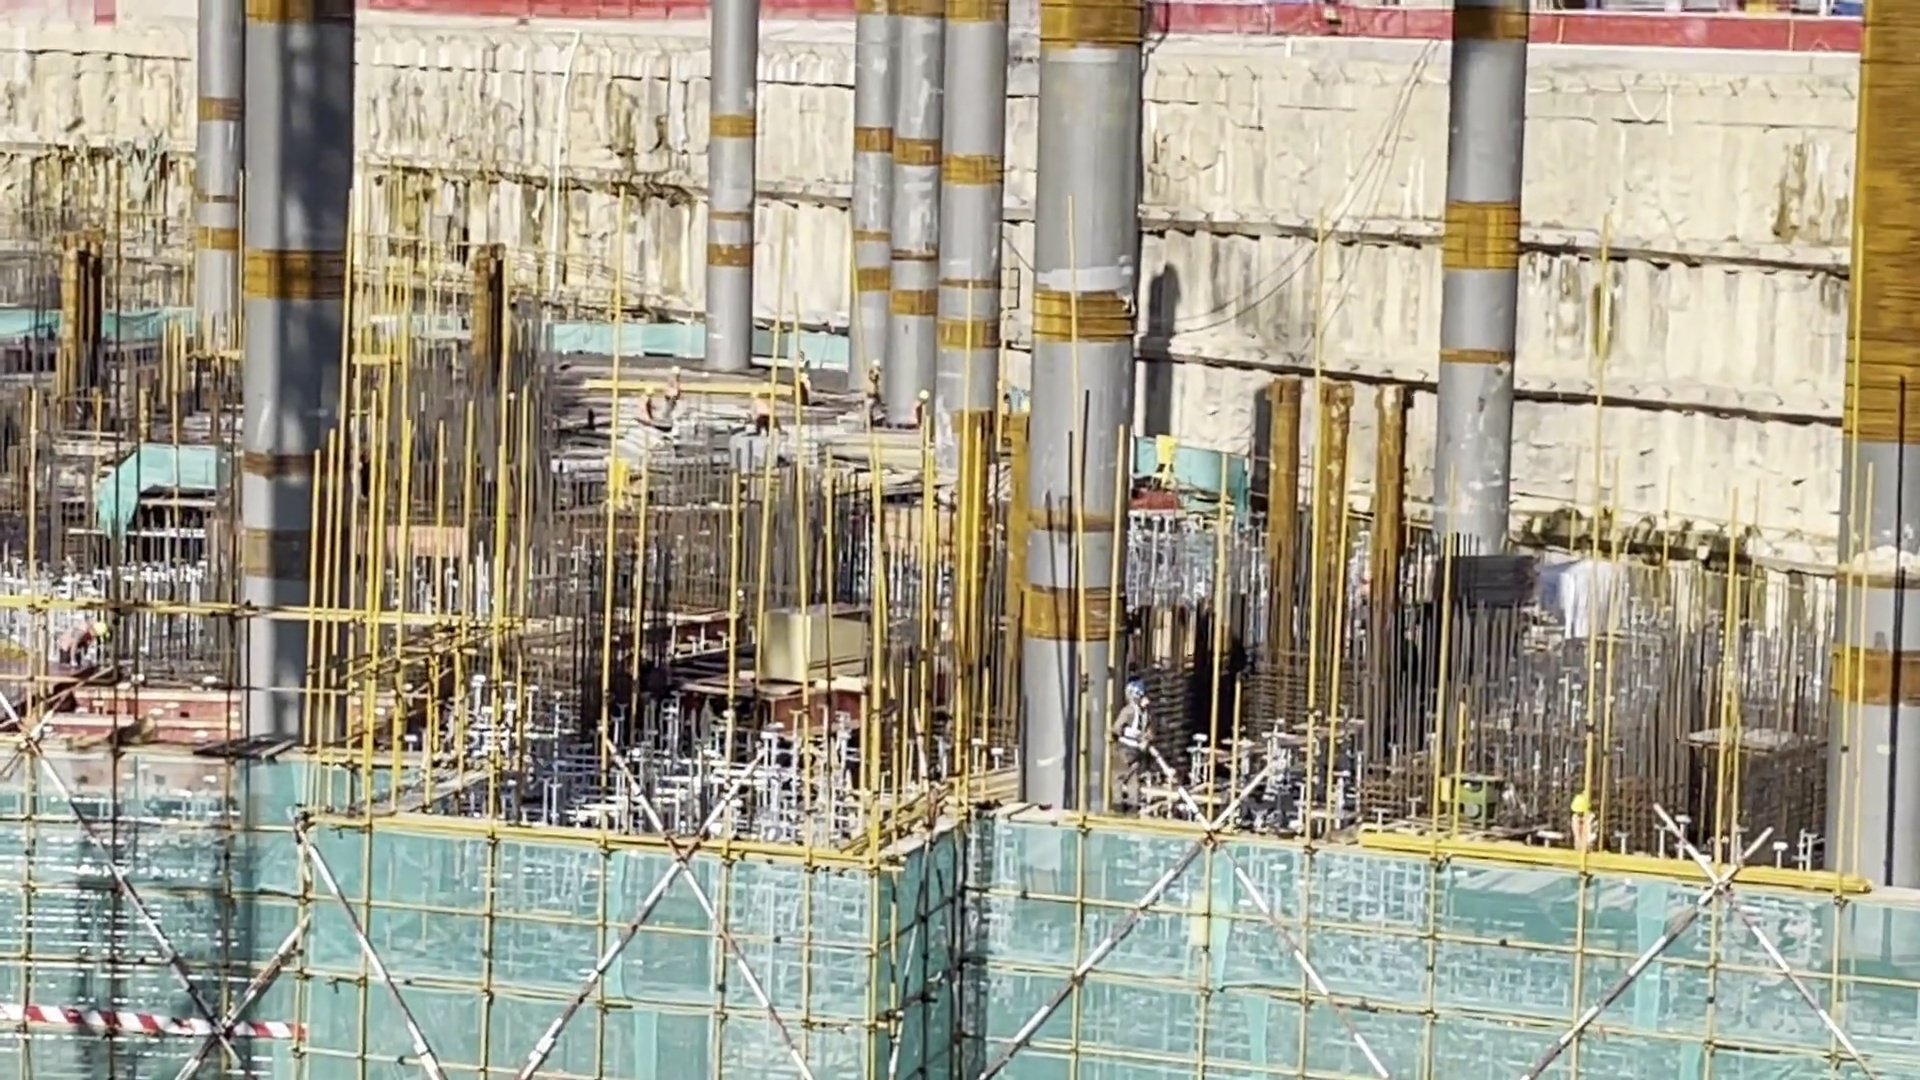helmet: (1570, 795, 1589, 811)
person: (1115, 677, 1147, 815)
vest: (1120, 720, 1147, 753)
